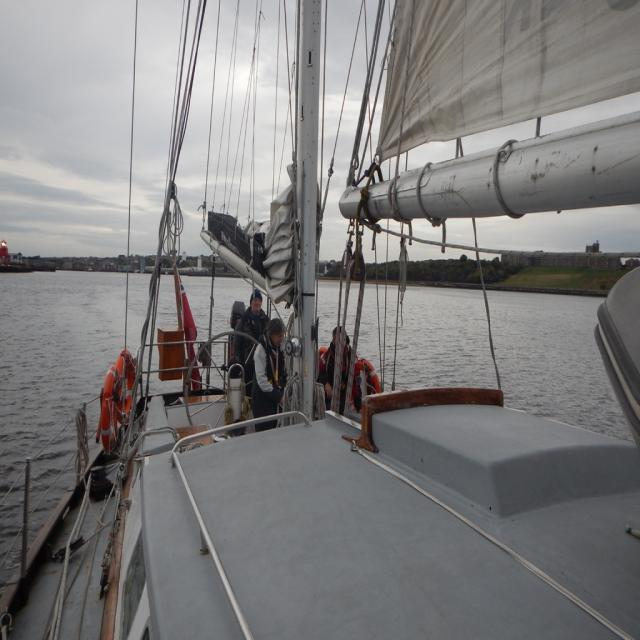Boat: (35, 2, 640, 612)
